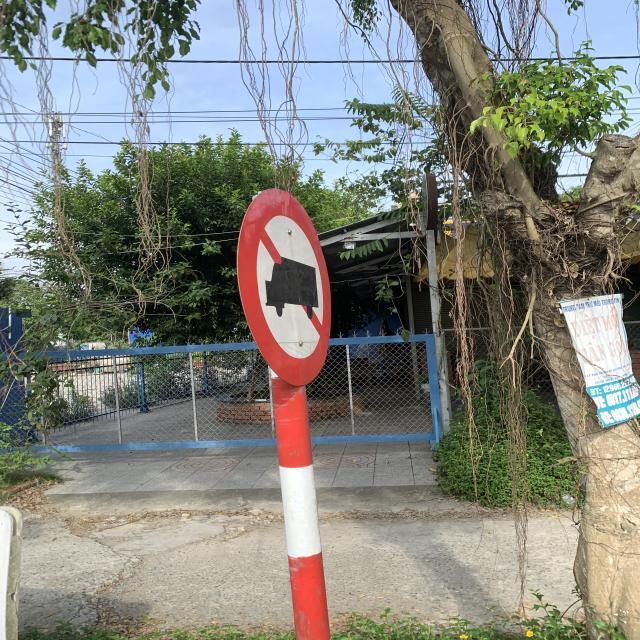Cam_Xe_Tai: (237, 186, 341, 388)
